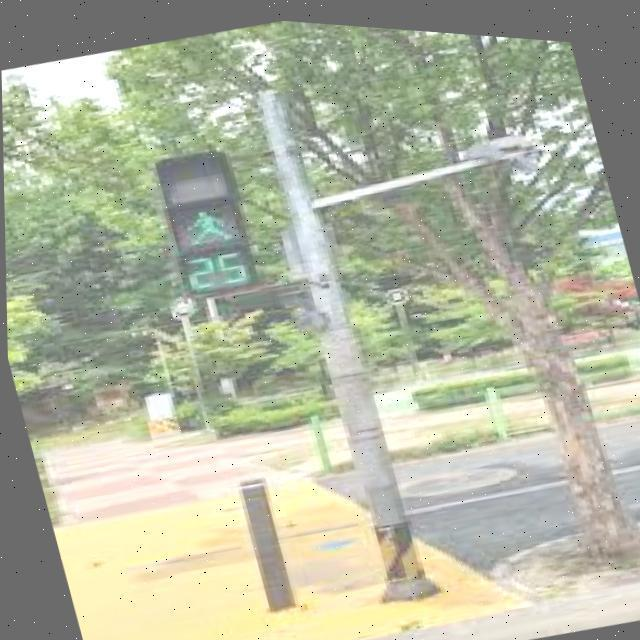greenlight: (154, 138, 251, 264)
